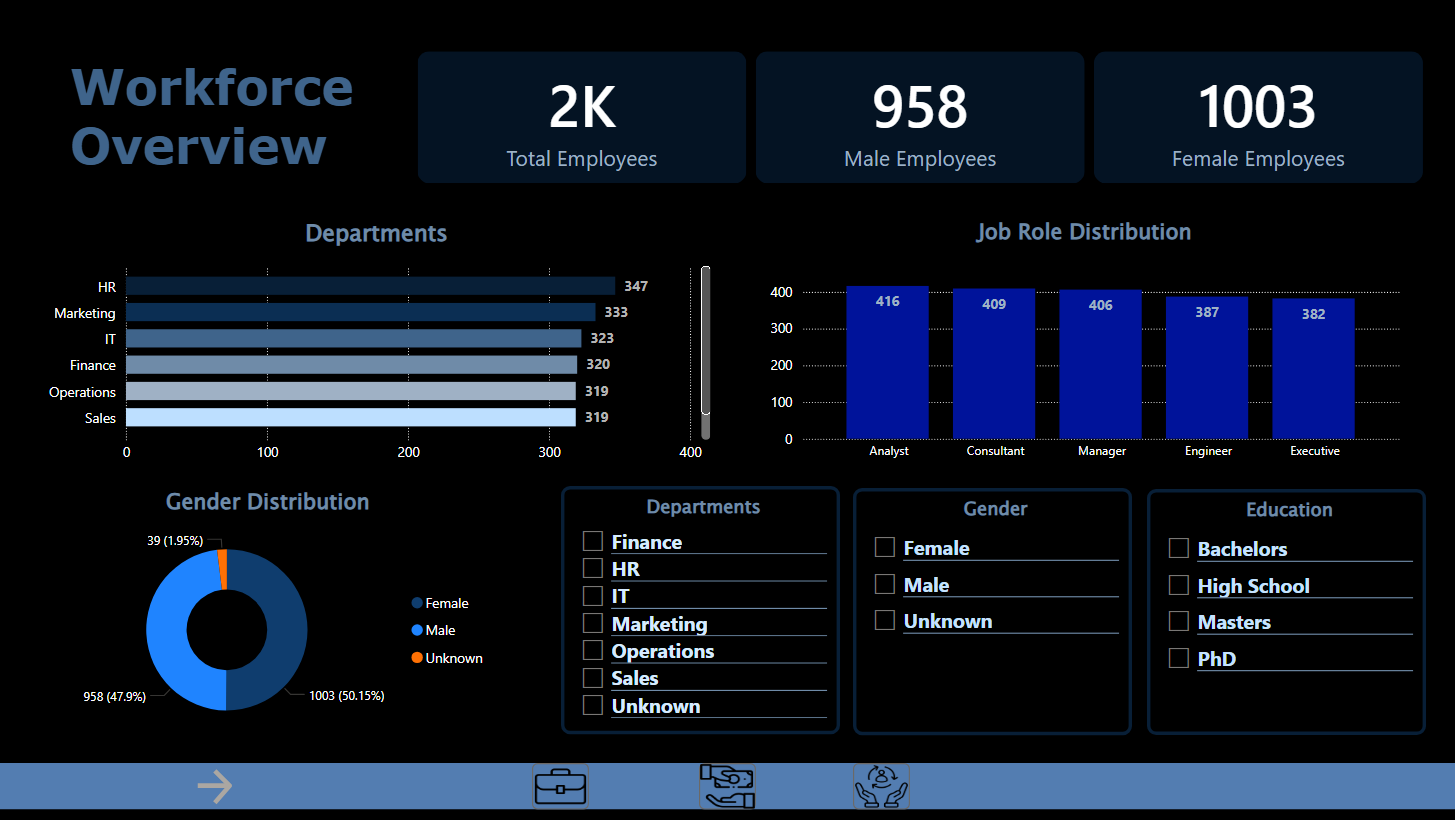

The page's visual inventory and layout, read from the dashboard file:
{"tool":"powerbi","page":{"name":"Workforce","canvas":[1280,720],"ordinal":0},"visuals":[{"type":"shape","box":[0,670,1280,40.9],"z":0},{"type":"textbox","title":"Workforce  Overview","box":[57.3,49.1,262.7,108.2],"z":1000},{"type":"cardVisual","fields":{"Data":["HR Dataset - Cleaned.Total Employees","HR Dataset - Cleaned.Male Employees","HR Dataset - Cleaned.Female Employees"]},"box":[350,28.2,918.2,150],"z":2000},{"type":"clusteredBarChart","title":"Departments","fields":{"Y":["CountNonNull(HR Dataset - Cleaned.EmployeeID)"],"Category":["HR Dataset - Cleaned.Department"]},"box":[33.6,190,596.4,225.5],"z":3000},{"type":"donutChart","title":"Gender Distribution","fields":{"Category":["HR Dataset - Cleaned.Gender"],"Y":["CountNonNull(HR Dataset - Cleaned.EmployeeID)"]},"box":[33.6,426.4,405.5,224.5],"z":4000},{"type":"clusteredColumnChart","title":"Job Role Distribution","fields":{"Y":["CountNonNull(HR Dataset - Cleaned.EmployeeID)"],"Category":["HR Dataset - Cleaned.JobRole"]},"box":[671.8,190,563.6,224.5],"z":5000},{"type":"slicer","title":"Departments","fields":{"Values":["HR Dataset - Cleaned.Department"]},"box":[493.6,426.4,244.5,218.2],"z":6000},{"type":"slicer","title":"Gender","fields":{"Values":["HR Dataset - Cleaned.Gender"]},"box":[750,428.2,244.5,217.3],"z":7000},{"type":"slicer","title":"Education","fields":{"Values":["HR Dataset - Cleaned.Education"]},"box":[1008.2,429.1,244.5,216.4],"z":8000},{"type":"actionButton","box":[468.2,670,50,40.9],"z":9000},{"type":"actionButton","box":[750,670,50,40.9],"z":10000},{"type":"actionButton","box":[614.5,670,50,40.9],"z":11000},{"type":"actionButton","box":[147.3,670.9,82.7,40],"z":11001}]}

Visuals, with their boxes in screenshot pixels (x1, y1, x2, y2), scaled from the page's 1280x720 canvas onto the 1455x820 screenshot:
shape: l=0, t=763, r=1454, b=810
"Workforce  Overview" textbox: l=65, t=56, r=364, b=179
cardVisual - HR Dataset - Cleaned.Total Employees x HR Dataset - Cleaned.Male Employees: l=398, t=32, r=1442, b=203
"Departments" clusteredBarChart: l=38, t=216, r=716, b=473
"Gender Distribution" donutChart: l=38, t=486, r=499, b=741
"Job Role Distribution" clusteredColumnChart: l=764, t=216, r=1404, b=472
"Departments" slicer: l=561, t=486, r=839, b=734
"Gender" slicer: l=853, t=488, r=1130, b=735
"Education" slicer: l=1146, t=489, r=1424, b=735
actionButton: l=532, t=763, r=589, b=810
actionButton: l=853, t=763, r=909, b=810
actionButton: l=699, t=763, r=755, b=810
actionButton: l=167, t=764, r=261, b=810
